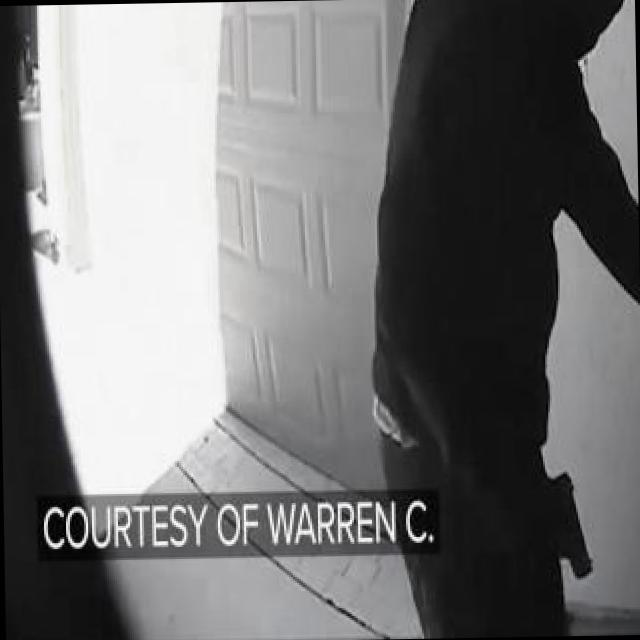Guns: (534, 466, 604, 589)
